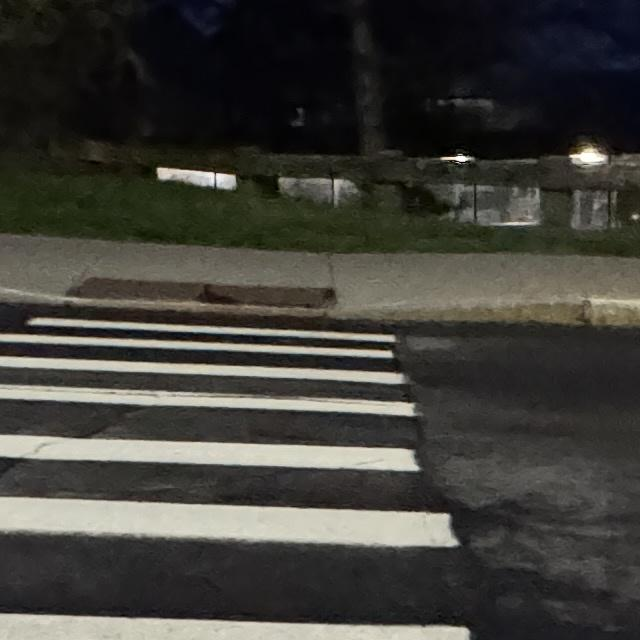curb: (0, 287, 639, 326)
